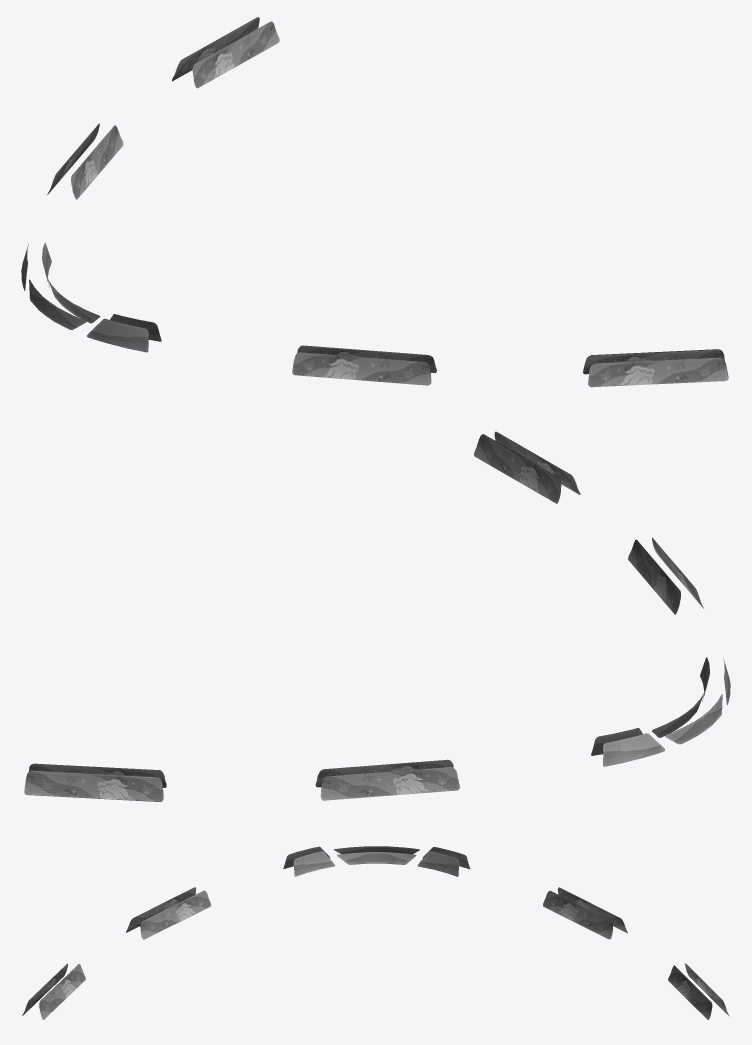
File: pref_sm_4v4beachtech_bk_WSJ_centerblock_R01a_lv0.fbx
3 views of the same model, one above another, from view 1: azimuth 30°, elevation 25°; view 2: azimuth 150°, elevation 25°; view 3: azimuth 270°, elevation 25° (orthographic). The views are drawn at different scales.
Visible parts, largest first — view 1: sm_4v4beachtech_WSJ_bk_centerblock_R01a_lv0; view 2: sm_4v4beachtech_WSJ_bk_centerblock_R01a_lv0; view 3: sm_4v4beachtech_WSJ_bk_centerblock_R01a_lv0.
Boxes of the visible parts, bbox=[...] form: sm_4v4beachtech_WSJ_bk_centerblock_R01a_lv0: bbox=[21, 17, 728, 387]; sm_4v4beachtech_WSJ_bk_centerblock_R01a_lv0: bbox=[24, 431, 730, 801]; sm_4v4beachtech_WSJ_bk_centerblock_R01a_lv0: bbox=[22, 846, 729, 1019].
Bounding box in the file's own units: 22.18 × 1.64 × 38.94.
